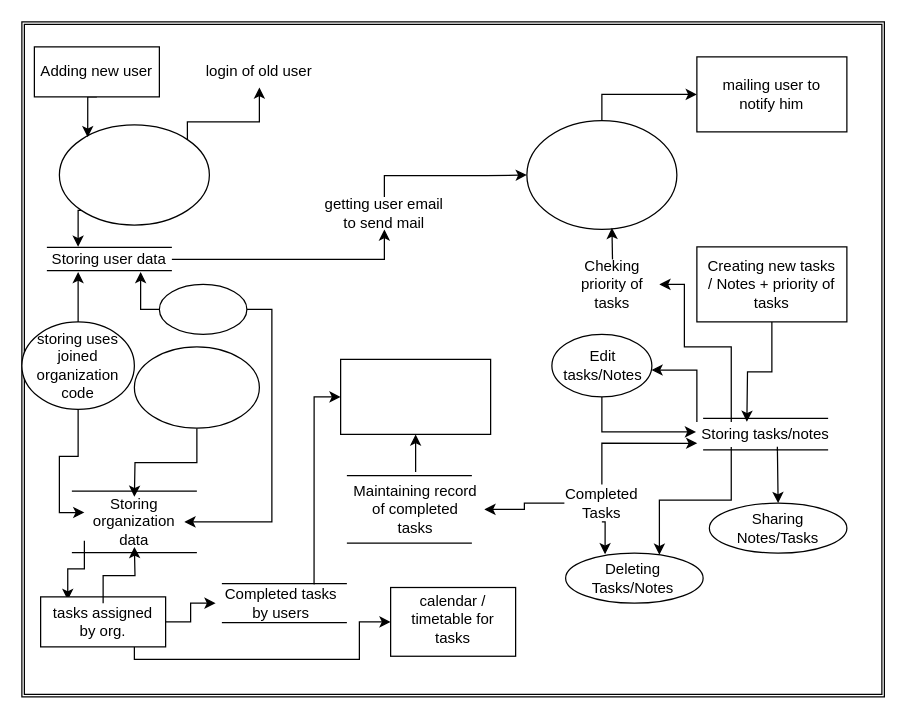
This 906x719 diagram has some shape labels left out. Here are the shapes that lost their labels. From the top down, the centre of each, then its label:
(133,174): Encryption / Decryiption of user data
(601,174): calculating priority to know the taks user should get notified abouty
(202,308): User's role
(196,387): organization name / description
(415,396): Using API to create analysis graph
